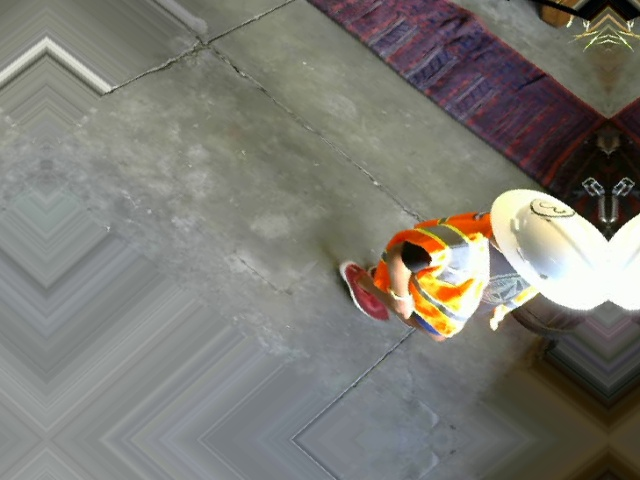three: (525, 187, 577, 229)
